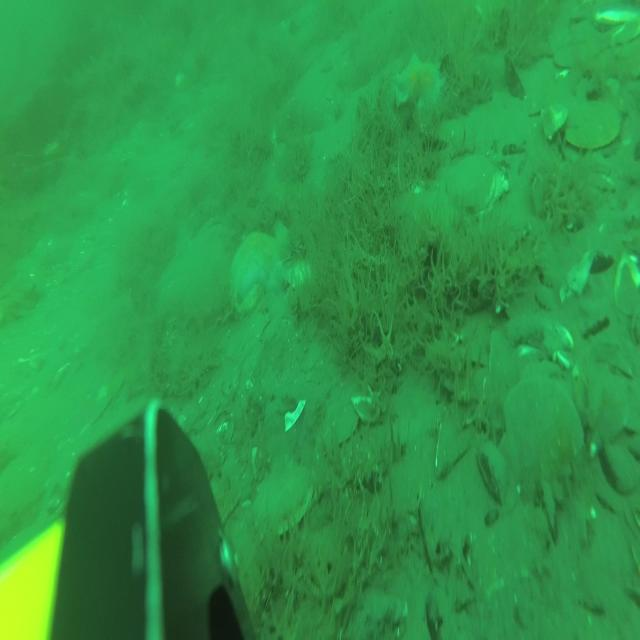scallop: (501, 379, 583, 484), (252, 466, 312, 534), (446, 154, 503, 214), (563, 101, 620, 149)
starfish: (228, 223, 294, 312), (397, 53, 448, 110)
